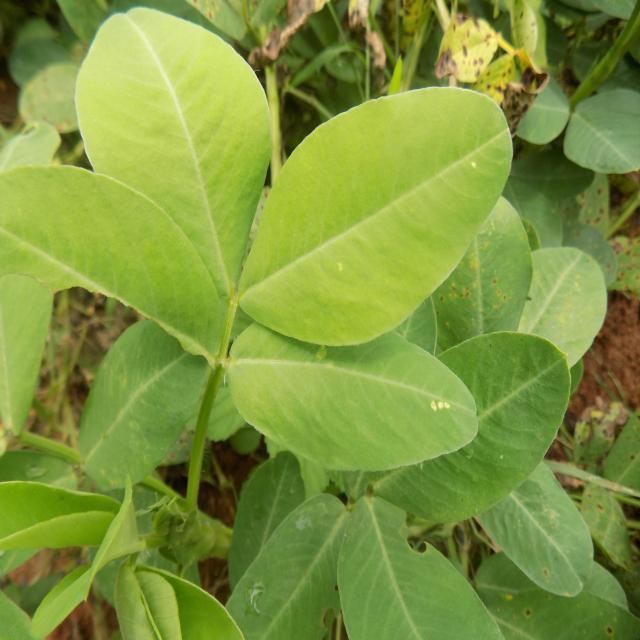Ground nut_healthy: (230, 80, 519, 343), (71, 9, 269, 300), (230, 324, 472, 481), (75, 312, 220, 492), (342, 492, 513, 640)
Ground nut_tikka leaf spot: (439, 17, 507, 84)
